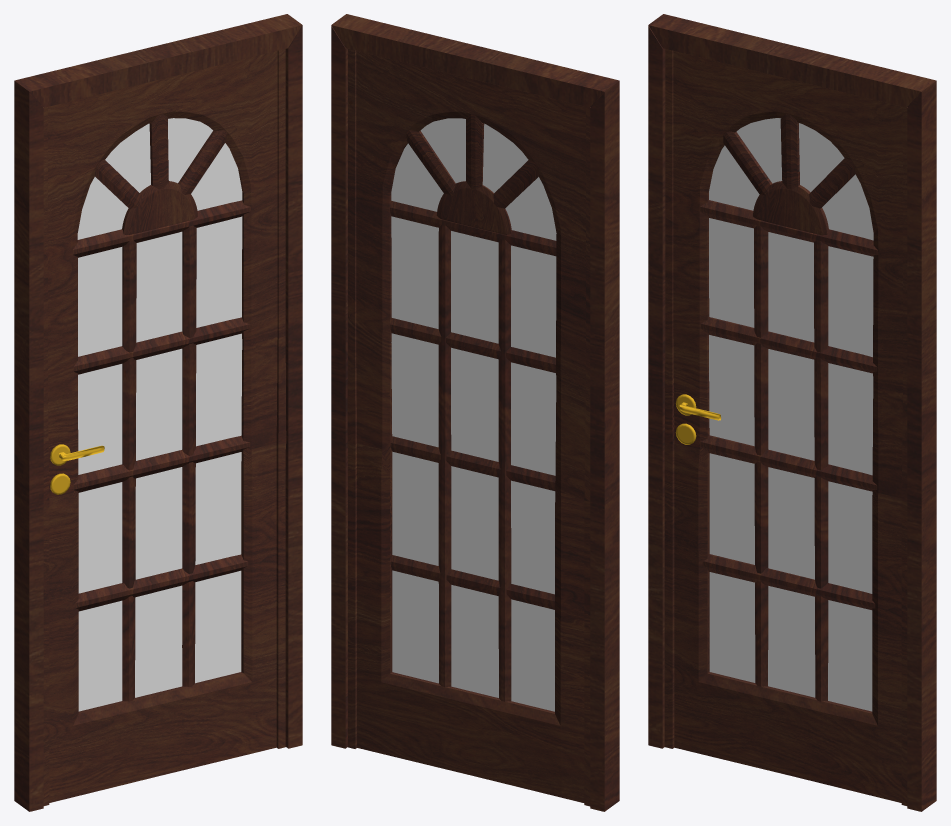
The model's file is PUERTA58_LIVERPOOL.glb.
The picture shows the model from 3 angles, left to right: view 1: azimuth 30°, elevation 25°; view 2: azimuth 150°, elevation 25°; view 3: azimuth 330°, elevation 25°; orthographic projection.
Visible parts, largest first — view 1: PUERTA58_LIVERPOOL, CRISTAL_GRANDE, Puerta58_Marco, Puerta58_Cerradura; view 2: PUERTA58_LIVERPOOL, CRISTAL_GRANDE, Puerta58_Marco; view 3: PUERTA58_LIVERPOOL, CRISTAL_GRANDE, Puerta58_Marco, Puerta58_Cerradura.
Part boxes in pixels (<box>): PUERTA58_LIVERPOOL: <box>43,49,286,805</box>; CRISTAL_GRANDE: <box>77,118,242,711</box>; Puerta58_Marco: <box>14,14,302,811</box>; Puerta58_Cerradura: <box>50,444,104,494</box>; PUERTA58_LIVERPOOL: <box>347,49,590,806</box>; CRISTAL_GRANDE: <box>391,118,556,711</box>; Puerta58_Marco: <box>331,14,619,811</box>; PUERTA58_LIVERPOOL: <box>664,49,907,805</box>; CRISTAL_GRANDE: <box>709,118,873,711</box>; Puerta58_Marco: <box>648,14,936,811</box>; Puerta58_Cerradura: <box>675,394,721,444</box>.
Bounding box in the file's own units: 769 × 1936 × 85.
Materials: 6 (4 with a texture image).
